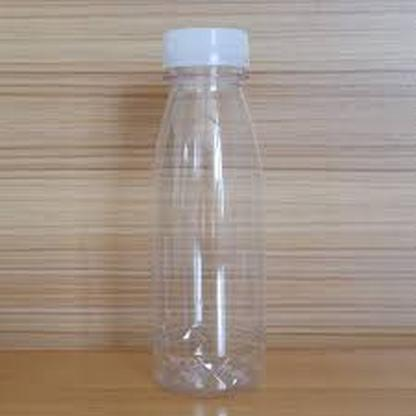plastic bottle: (152, 27, 263, 396)
